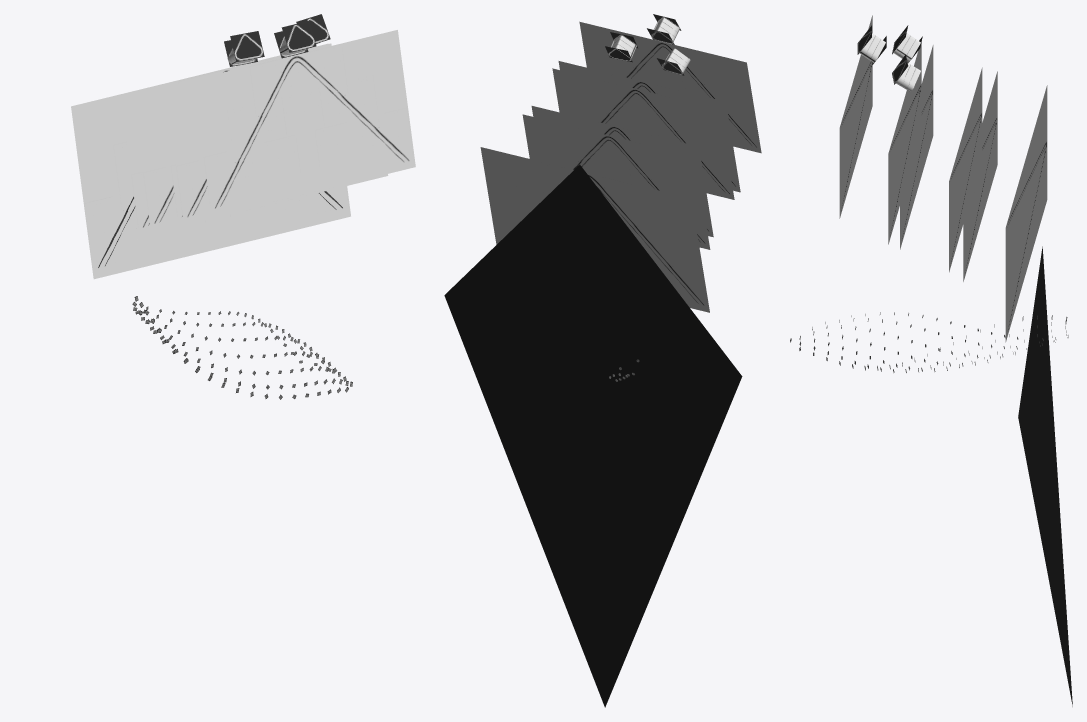
File: rdc_spirale.dae
3 renders of one model, left to right at view 1: azimuth 30°, elevation 25°; view 2: azimuth 150°, elevation 25°; view 3: azimuth 270°, elevation 25°, orthographic. The views are drawn at different scales.
Parts seen in each view (by area): view 1: topgrande (×6), spirale, megapattern_top (×2); view 2: nero, topgrande (×6); view 3: topgrande (×6), nero, spirale.
Part boxes in pixels (bbox=[...]): topgrande (×6): bbox=[71, 30, 415, 279]; spirale: bbox=[132, 296, 352, 399]; megapattern_top (×2): bbox=[230, 21, 316, 61]; nero: bbox=[444, 165, 742, 707]; topgrande (×6): bbox=[480, 21, 761, 312]; topgrande (×6): bbox=[839, 15, 1047, 342]; nero: bbox=[1018, 246, 1072, 706]; spirale: bbox=[790, 312, 1068, 372].
Size of the model in its own units: 525 by 1004 by 371.
Materials: 6 (5 with a texture image).
